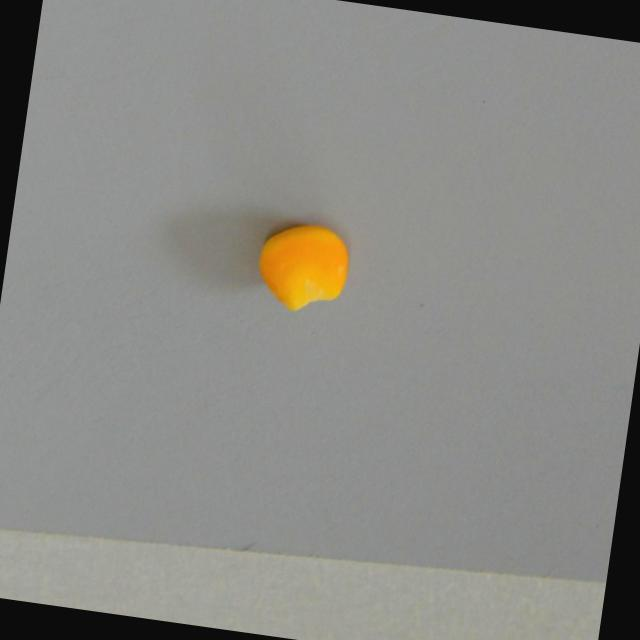no_canjicado: (248, 214, 356, 320)
